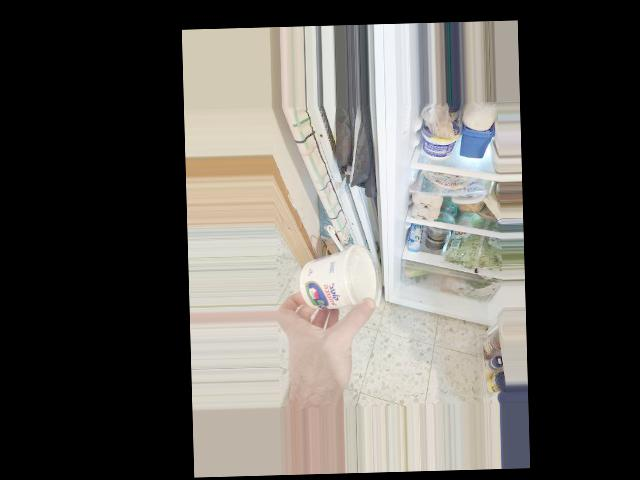cotage: (296, 242, 380, 322)
